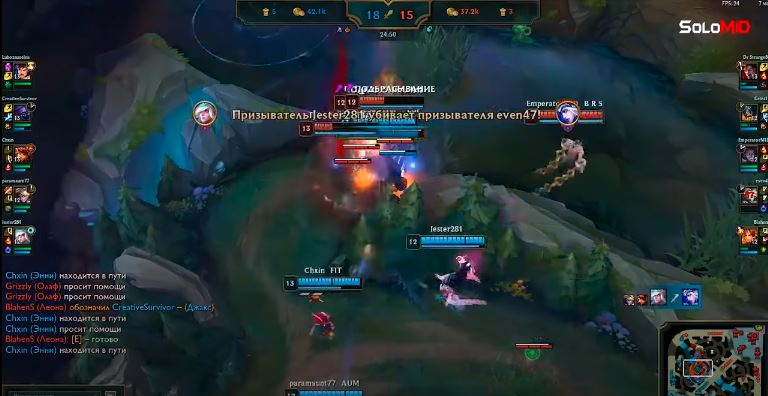dog: (521, 103, 606, 124), (282, 272, 365, 293), (405, 232, 490, 250), (333, 94, 415, 112), (297, 121, 384, 137), (344, 95, 426, 108), (335, 114, 423, 126), (282, 387, 365, 396)
